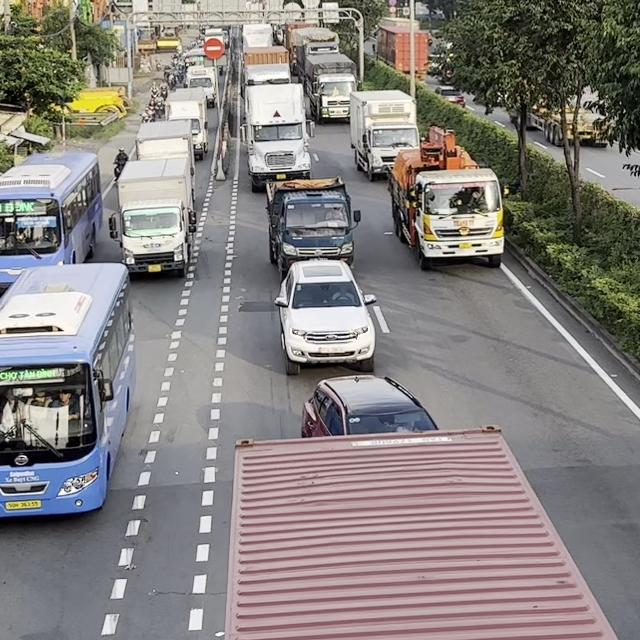bus: (0, 262, 136, 520), (0, 150, 103, 293)
car: (273, 258, 378, 375), (300, 373, 439, 438)
motorcycle: (112, 147, 128, 180)
truck: (223, 424, 623, 639), (385, 125, 505, 270), (107, 156, 198, 277), (264, 175, 361, 278), (240, 82, 315, 192), (348, 88, 420, 181), (302, 51, 359, 123), (132, 119, 195, 178), (163, 87, 208, 159), (184, 64, 217, 108)
